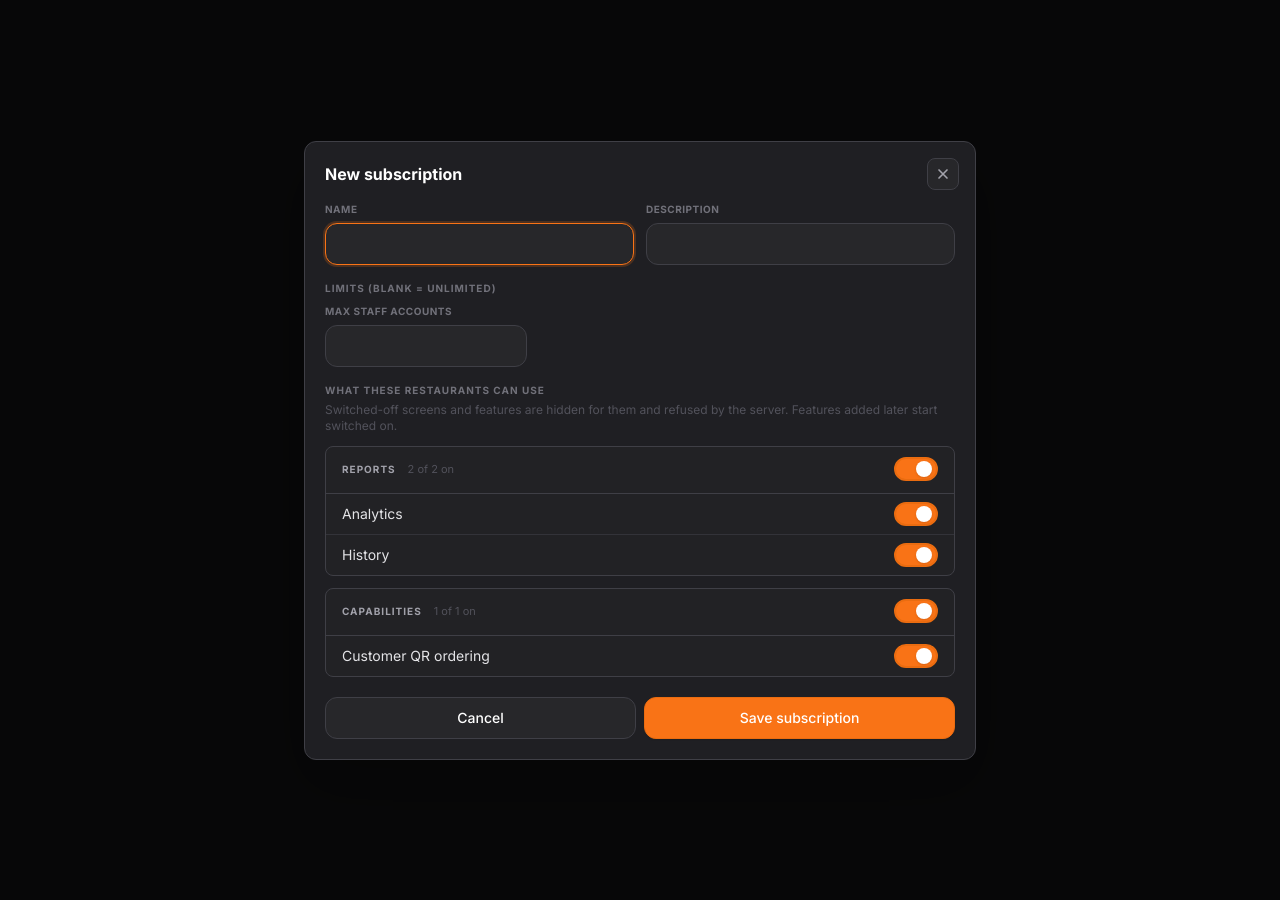
Scenario: a name is required before anything is saved
What coordinates should you click on to do the following:
click the button "Save subscription"
I would click on:
 (800, 718)
Its box is left=644, top=696, right=955, bottom=738.
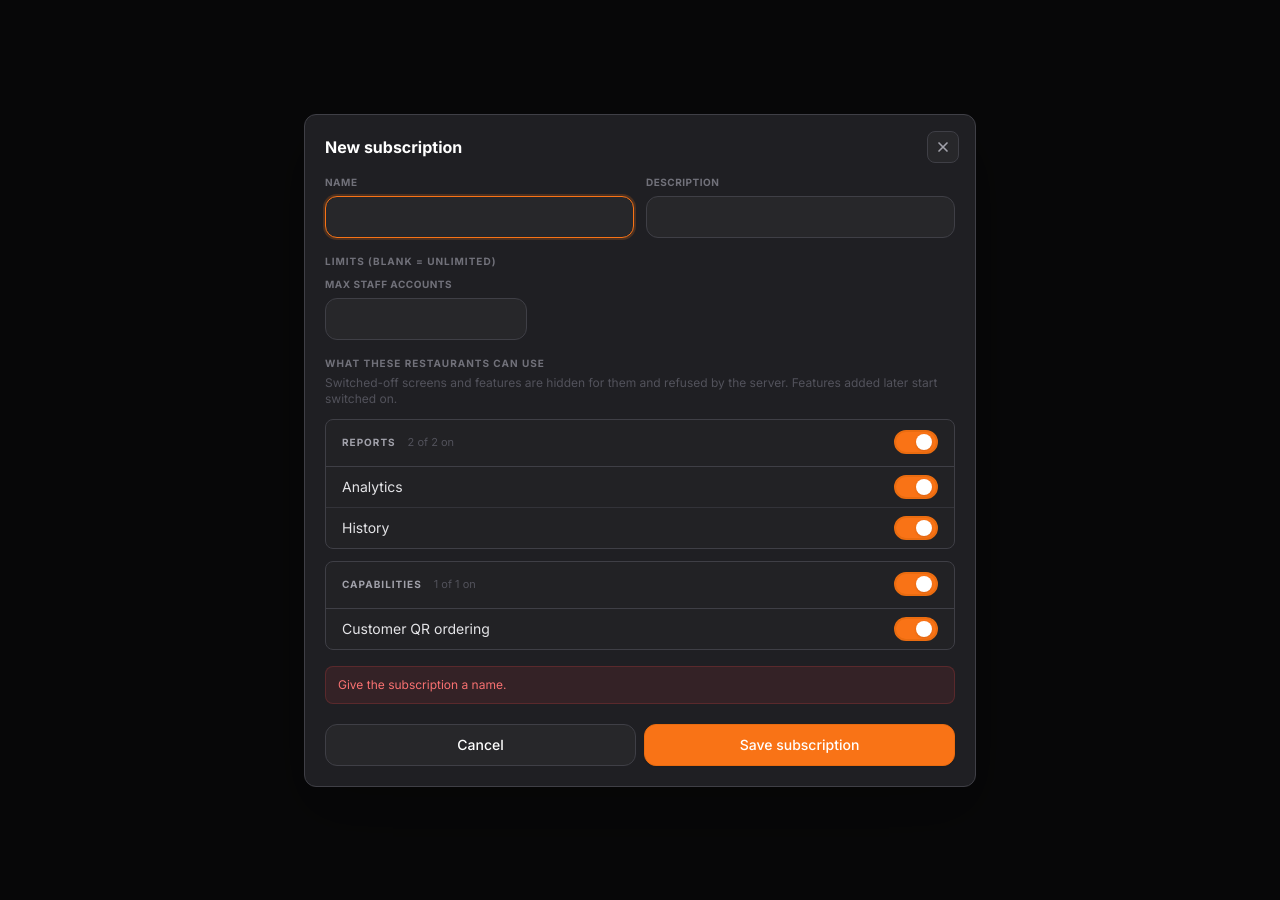
Now the message shows "name", box left=338, top=676, right=506, bottom=692
